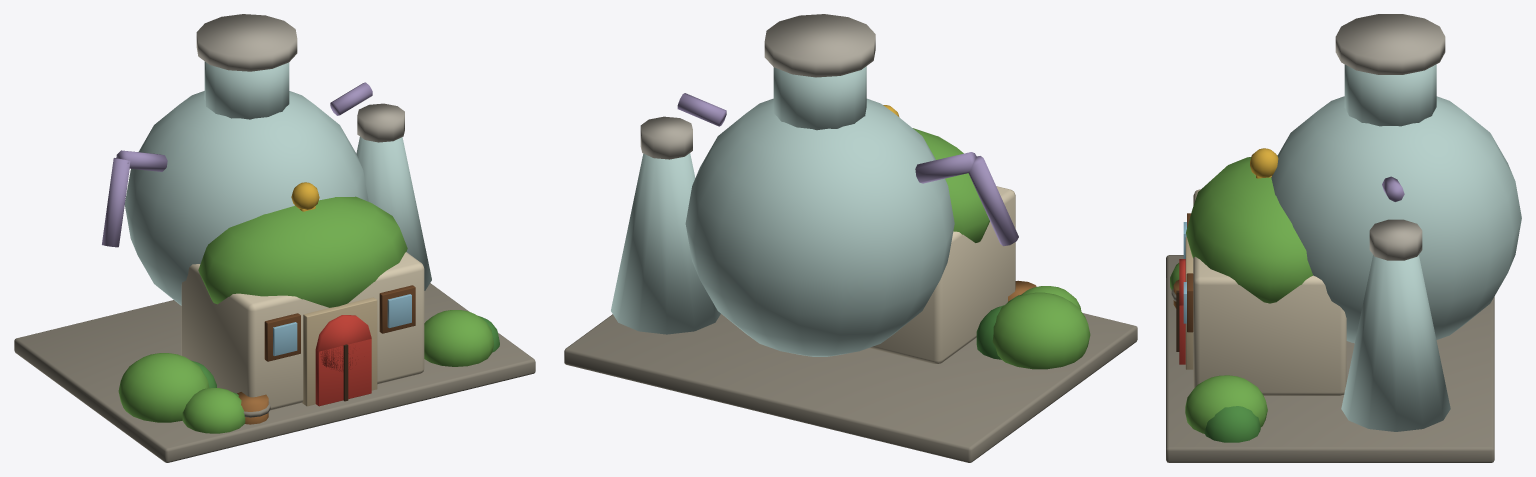
The model's file is k_mint.glb.
3 renders of one model, left to right at view 1: azimuth 30°, elevation 25°; view 2: azimuth 150°, elevation 25°; view 3: azimuth 270°, elevation 25°, orthographic. The views are drawn at different scales.
Parts seen in each view (by area): view 1: SK_k_mint; view 2: SK_k_mint; view 3: SK_k_mint.
Boxes of the visible parts, x1,y1,x2,y2 form: SK_k_mint: [14, 14, 535, 462]; SK_k_mint: [564, 14, 1137, 462]; SK_k_mint: [1166, 14, 1521, 462].
Bounding box in the file's own units: 4.2 × 3.42 × 3.25.
